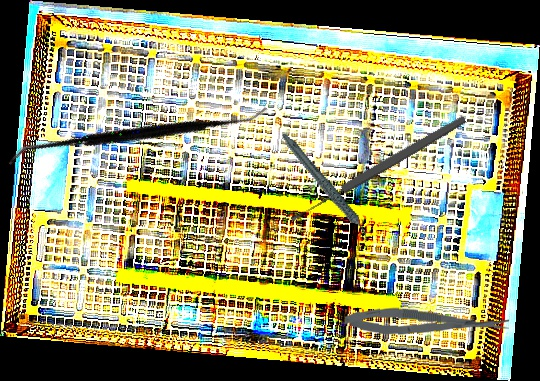Handpiece: (280, 120, 371, 256)
Micro Scissor: (344, 304, 510, 342)
Spatula Surgical: (6, 9, 271, 264)
Surgical Spoon: (288, 113, 468, 225)
